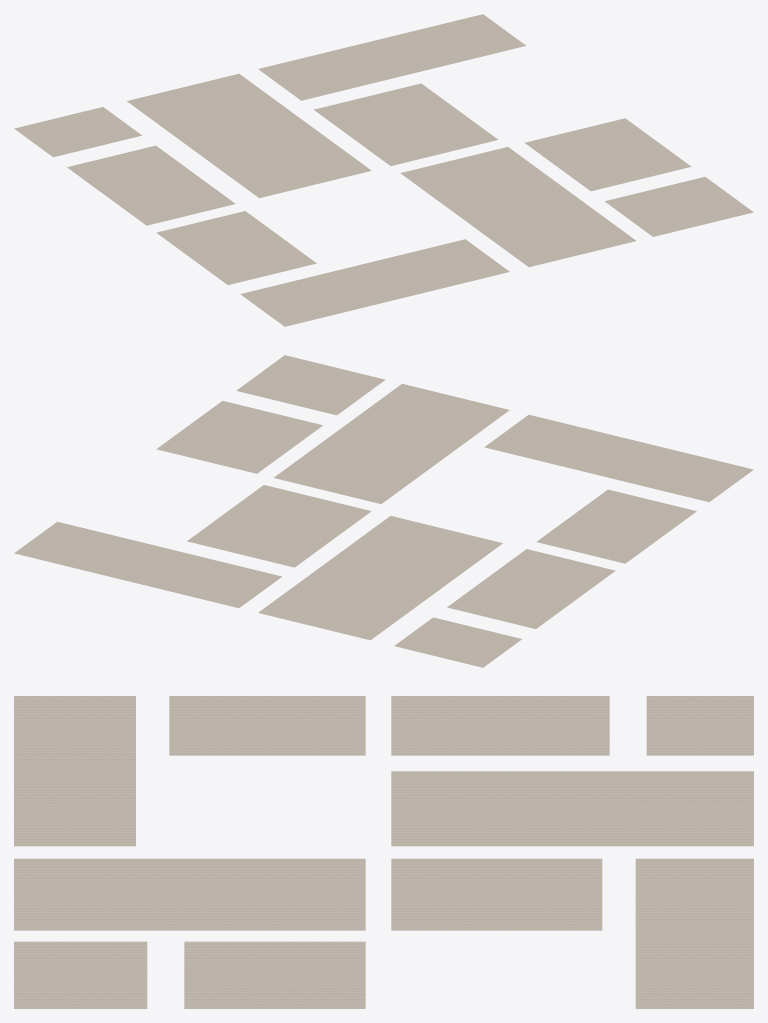
Rendered from Tile2.FBX.
3 renders of one model, top to bottom at view 1: azimuth 30°, elevation 25°; view 2: azimuth 150°, elevation 25°; view 3: azimuth 270°, elevation 25°, orthographic. The views are drawn at different scales.
Visible parts, largest first — view 1: Plane001; view 2: Plane001; view 3: Plane001.
Part boxes in pixels (<box>): Plane001: <box>14,14,753,326</box>; Plane001: <box>14,355,753,667</box>; Plane001: <box>14,696,753,1008</box>.
Bounding box in the file's own units: 1000 × 6.12e-14 × 1000.
